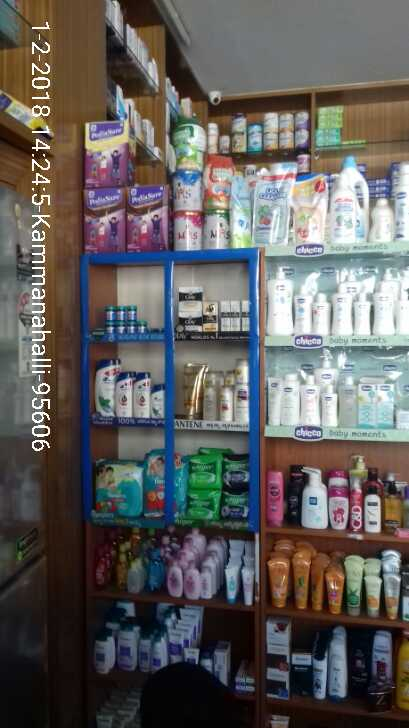beauty: (92, 358, 117, 415), (184, 363, 205, 420), (234, 358, 250, 424), (132, 372, 150, 419), (115, 372, 133, 418), (179, 285, 204, 310), (150, 383, 165, 418), (178, 311, 202, 332), (202, 302, 219, 331), (220, 387, 234, 422), (230, 300, 241, 332), (221, 301, 231, 331), (242, 302, 250, 333)
pharmacy: (93, 458, 143, 522), (142, 454, 165, 517), (186, 454, 221, 489), (221, 456, 249, 493), (188, 491, 221, 522), (221, 492, 251, 526), (124, 305, 138, 321), (124, 319, 137, 336), (104, 306, 116, 322), (116, 304, 124, 321), (105, 321, 115, 333), (115, 322, 125, 333), (138, 320, 146, 333)
